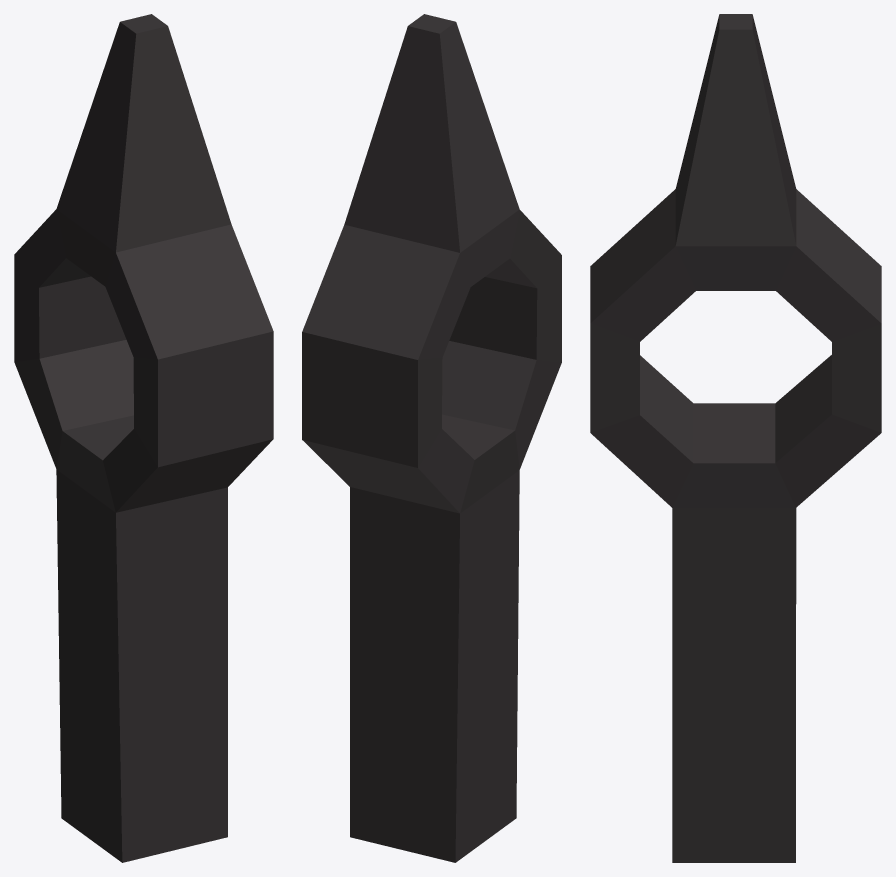
The model's file is Tower_Clock_Hour.fbx.
3 views of the same model, side by side, from view 1: azimuth 30°, elevation 25°; view 2: azimuth 150°, elevation 25°; view 3: azimuth 270°, elevation 25° (orthographic).
Parts seen in each view (by area): view 1: Tower_Clock_Hour; view 2: Tower_Clock_Hour; view 3: Tower_Clock_Hour.
Boxes of the visible parts, x1=… form: Tower_Clock_Hour: x1=14, y1=14, x2=273, y2=862; Tower_Clock_Hour: x1=302, y1=14, x2=561, y2=862; Tower_Clock_Hour: x1=590, y1=14, x2=881, y2=862.
Bounding box in the file's own units: 31.8 × 203 × 65.76.
